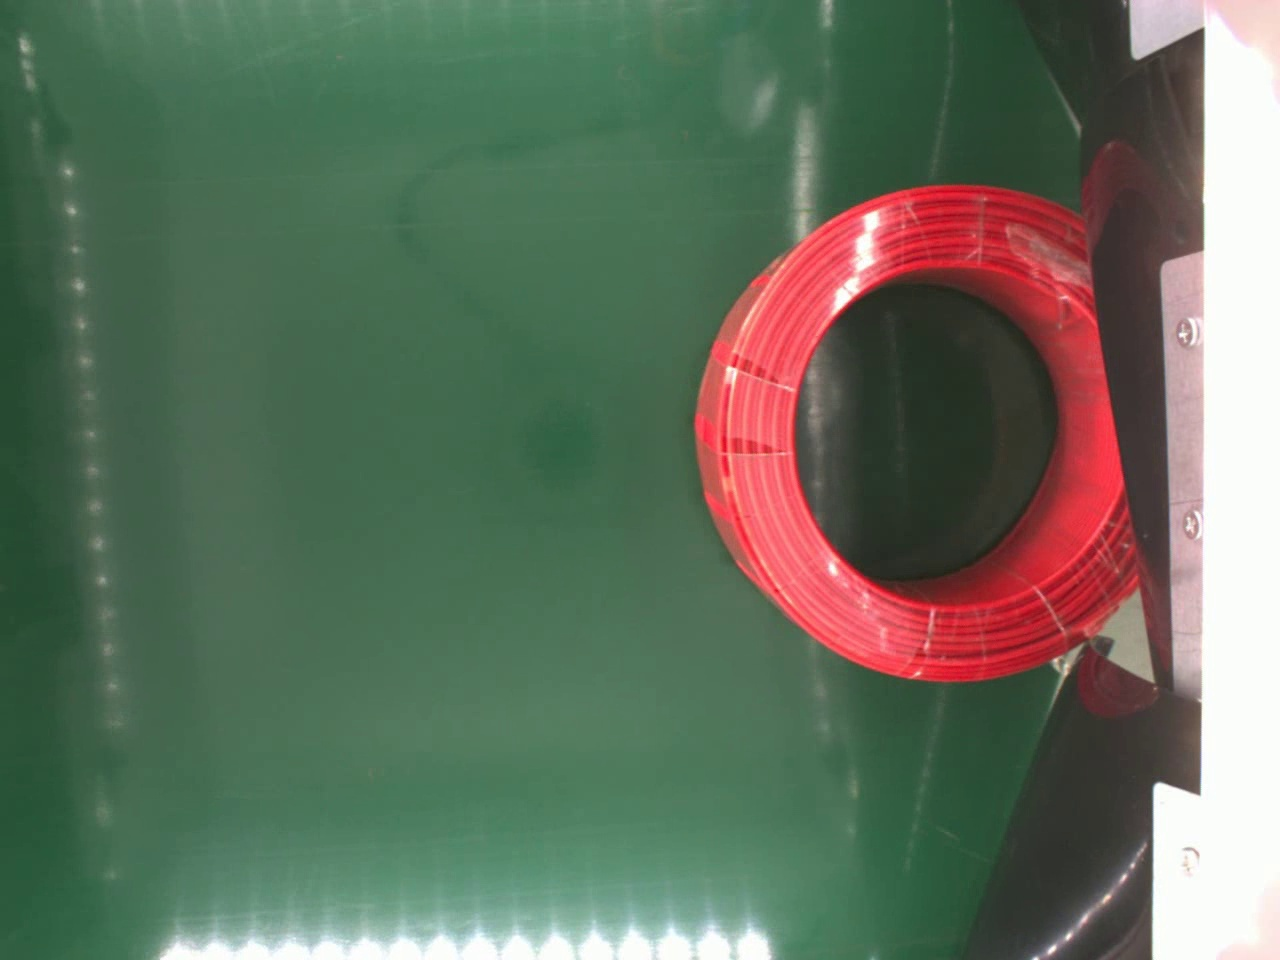red: (692, 181, 1141, 677)
